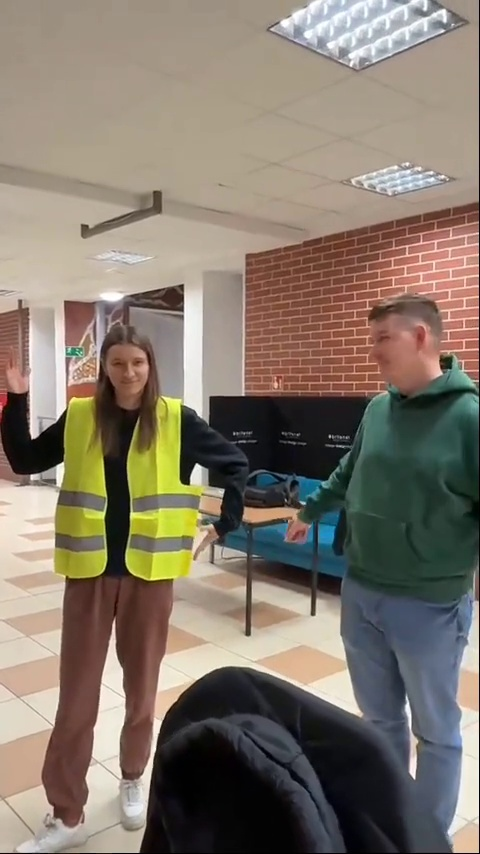no vest: (300, 293, 480, 817)
vest: (2, 324, 250, 843)
